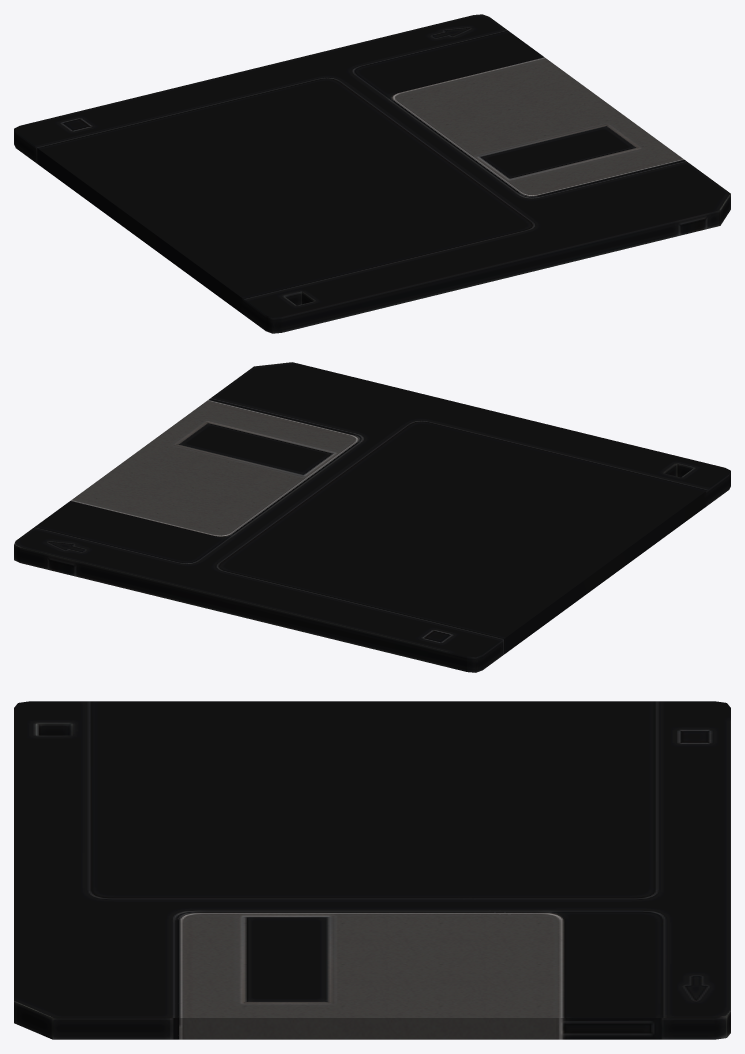
File: SM_Disketa.fbx
The picture shows the model from 3 angles, top to bottom: view 1: azimuth 30°, elevation 25°; view 2: azimuth 150°, elevation 25°; view 3: azimuth 270°, elevation 25°; orthographic projection. The views are drawn at different scales.
Parts seen in each view (by area): view 1: SM_Disketa; view 2: SM_Disketa; view 3: SM_Disketa.
Part boxes in pixels (x1=…): SM_Disketa: x1=14, y1=14, x2=730, y2=333; SM_Disketa: x1=14, y1=362, x2=730, y2=672; SM_Disketa: x1=14, y1=701, x2=730, y2=1039.
Size of the model in its own units: 0.1445 by 0.00461 by 0.1383.
